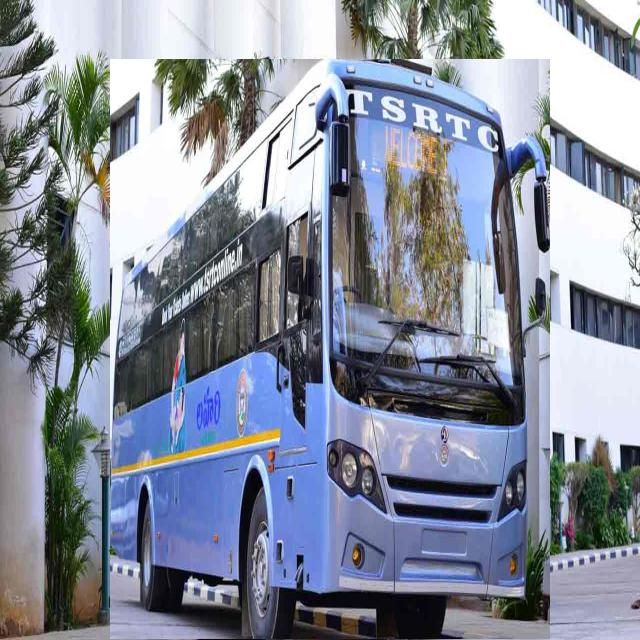bus: (110, 60, 550, 639)
